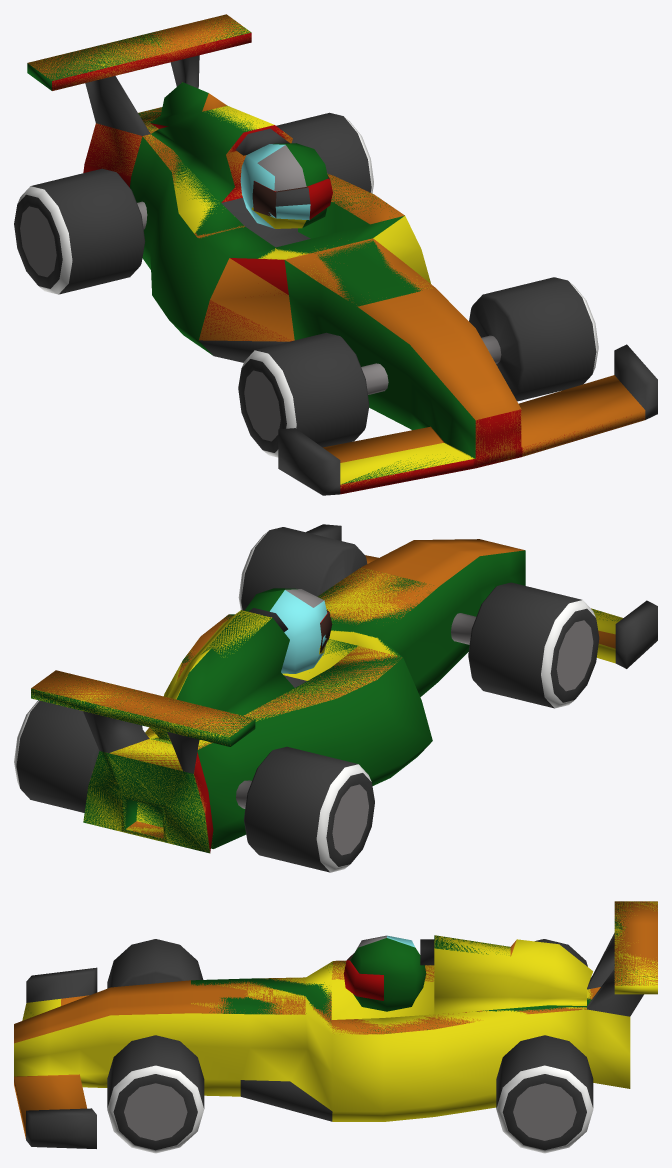
The model's file is Carros.fbx.
The picture shows the model from 3 angles, top to bottom: view 1: azimuth 30°, elevation 25°; view 2: azimuth 150°, elevation 25°; view 3: azimuth 270°, elevation 25°; orthographic projection. The views are drawn at different scales.
Parts seen in each view (by area): view 1: Carro02, Carro04, Carro01, Carro03; view 2: Carro04, Carro03, Carro02, Carro01; view 3: Carro03, Carro02, Carro04.
Boxes of the visible parts, <box> form: Carro02: <box>27,14,645,491</box>; Carro04: <box>14,15,645,495</box>; Carro01: <box>39,32,644,495</box>; Carro03: <box>28,16,657,484</box>; Carro04: <box>17,526,657,872</box>; Carro03: <box>14,524,626,872</box>; Carro02: <box>31,527,657,838</box>; Carro01: <box>194,635,326,852</box>; Carro03: <box>14,901,657,1153</box>; Carro02: <box>14,901,657,1138</box>; Carro04: <box>155,901,656,1111</box>.
Bounding box in the file's own units: 84.6 × 40.85 × 156.
